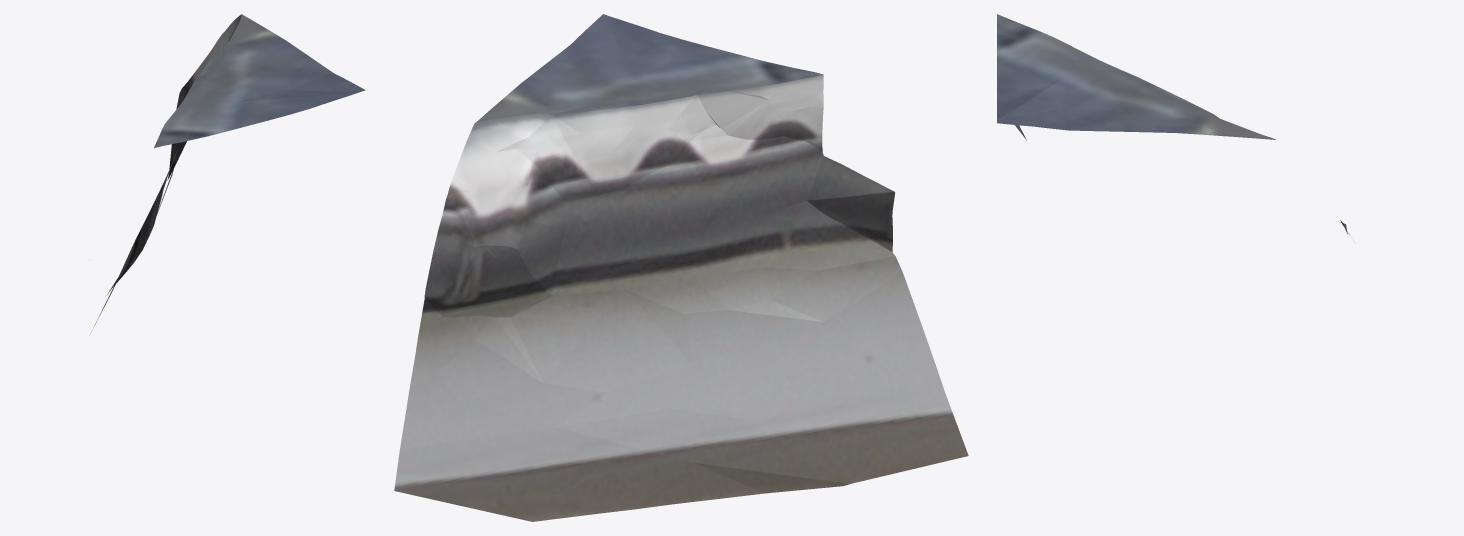
3 renders of one model, left to right at view 1: azimuth 30°, elevation 25°; view 2: azimuth 150°, elevation 25°; view 3: azimuth 270°, elevation 25°, orthographic. The views are drawn at different scales.
Size of the model in its own units: 0.6232 by 0.5999 by 0.6176.
Materials: 1 (1 with a texture image).
